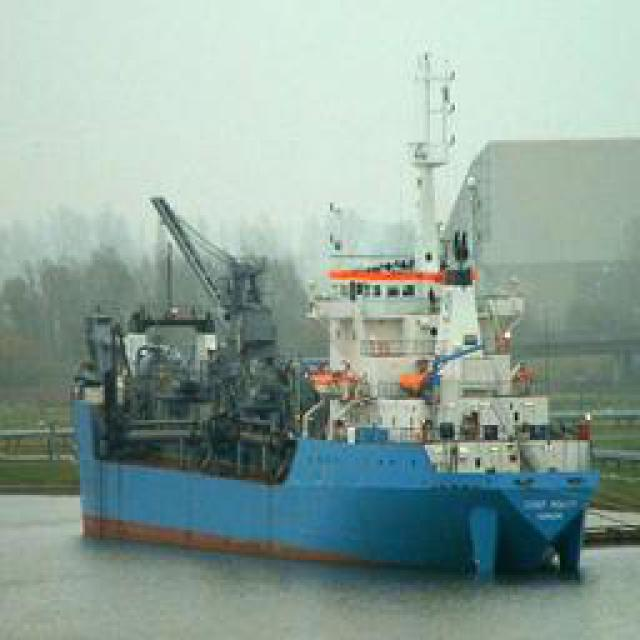Ship: (72, 145, 590, 580)
